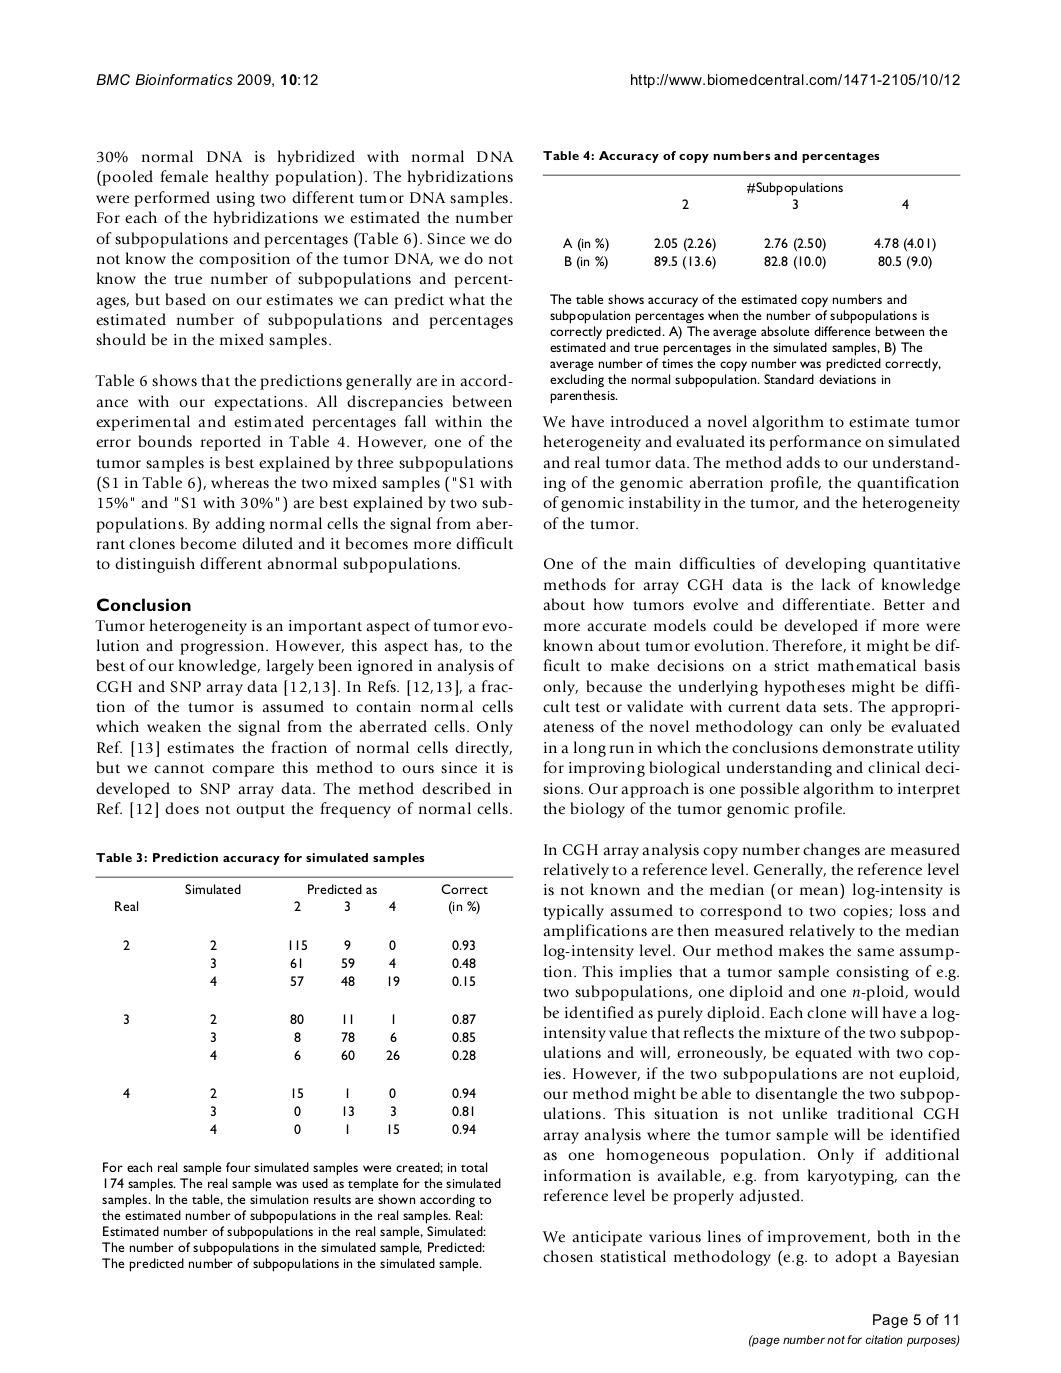Table: (95, 876, 513, 1135), (542, 174, 960, 269)
